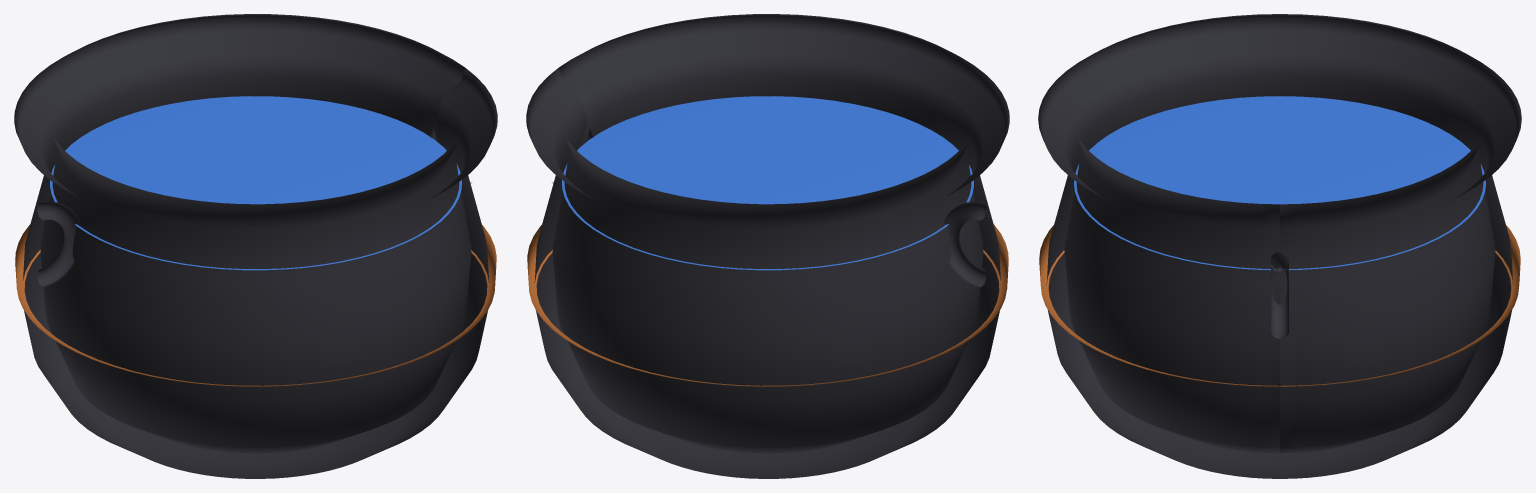
Rendered from cauldron.glb.
3 renders of one model, left to right at view 1: azimuth 30°, elevation 25°; view 2: azimuth 150°, elevation 25°; view 3: azimuth 270°, elevation 25°, orthographic.
Visible parts, largest first — view 1: pot, liquid, band, handle_l; view 2: pot, liquid, band, handle_l; view 3: pot, liquid, band, handle_r.
Part boxes in pixels (box(x1,y1,x2,y2)): pot: box(14, 14, 497, 478); liquid: box(50, 96, 461, 270); band: box(15, 224, 496, 386); handle_l: box(37, 201, 81, 287); pot: box(526, 14, 1009, 478); liquid: box(562, 96, 973, 270); band: box(527, 224, 1008, 386); handle_l: box(942, 201, 986, 287); pot: box(1038, 14, 1521, 478); liquid: box(1074, 96, 1485, 270); band: box(1039, 225, 1520, 386); handle_r: box(1271, 251, 1288, 338).
Bounding box in the file's own units: 0.94 × 0.67 × 0.92.
